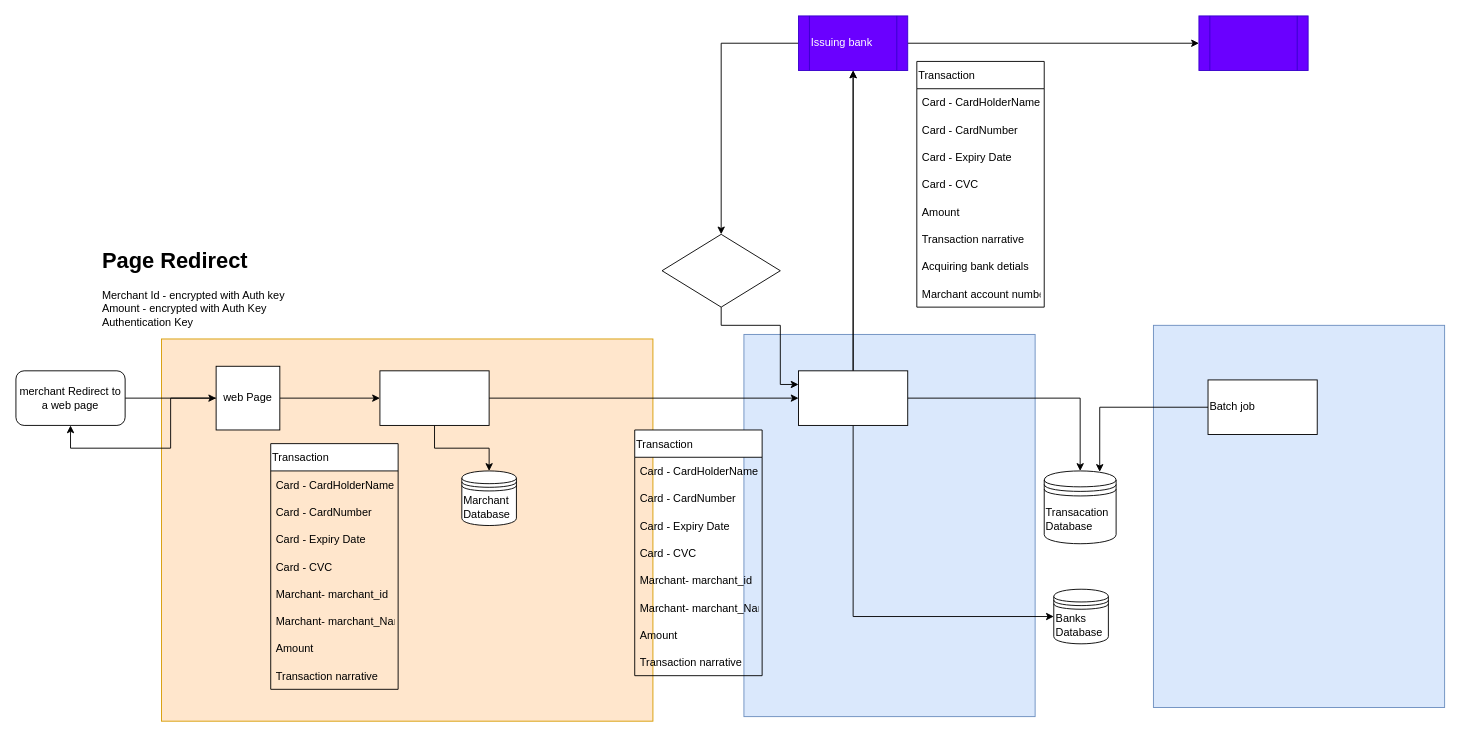
Some shapes in this 1461 by 737 pixel diagram are drawn without their labels. Each missing label, with the box of its shape:
Acquiring bank: (1198, 15, 1308, 71)
API: (379, 370, 489, 425)
Approved: (661, 233, 780, 307)
Batch job service: (1153, 324, 1445, 708)
Issuing Bank API: (798, 370, 908, 425)
